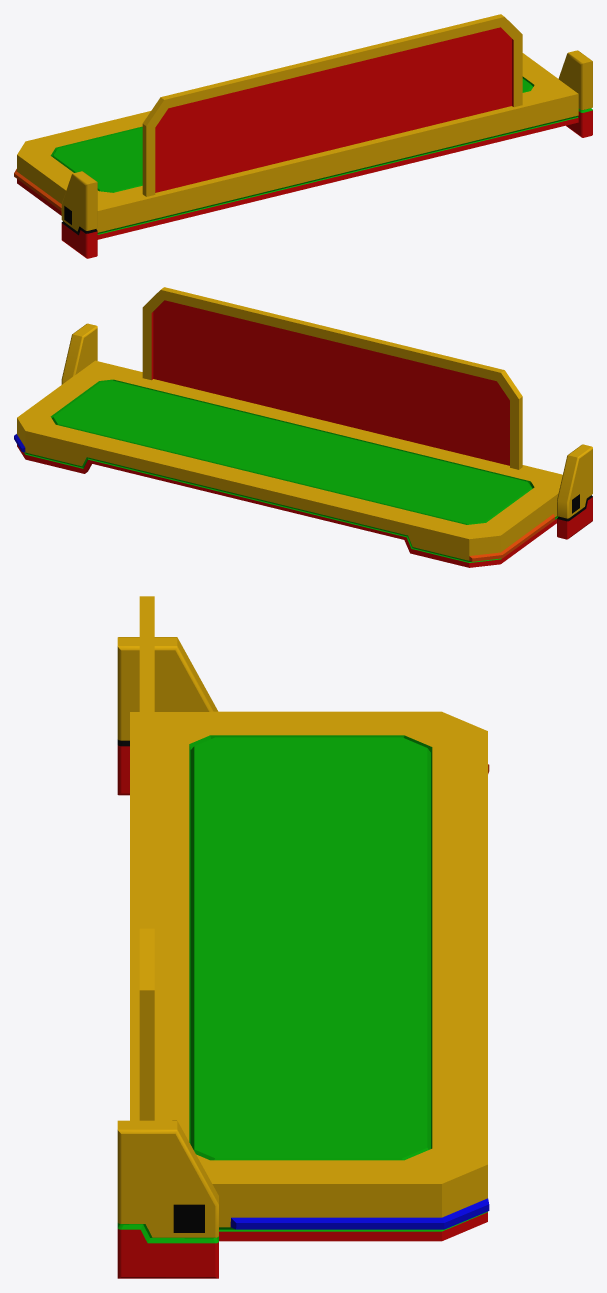
File: SM0155_Lobby_Shelf_01.fbx
3 views of the same model, one above another, from view 1: azimuth 30°, elevation 25°; view 2: azimuth 150°, elevation 25°; view 3: azimuth 270°, elevation 25° (orthographic). The views are drawn at different scales.
Parts seen in each view (by area): view 1: SM0155_Lobby_Shelf_01; view 2: SM0155_Lobby_Shelf_01; view 3: SM0155_Lobby_Shelf_01.
Boxes of the visible parts, <box> form: SM0155_Lobby_Shelf_01: <box>14,14,592,258</box>; SM0155_Lobby_Shelf_01: <box>14,287,592,567</box>; SM0155_Lobby_Shelf_01: <box>117,596,489,1278</box>.
Size of the model in its own units: 542 by 172 by 138.
